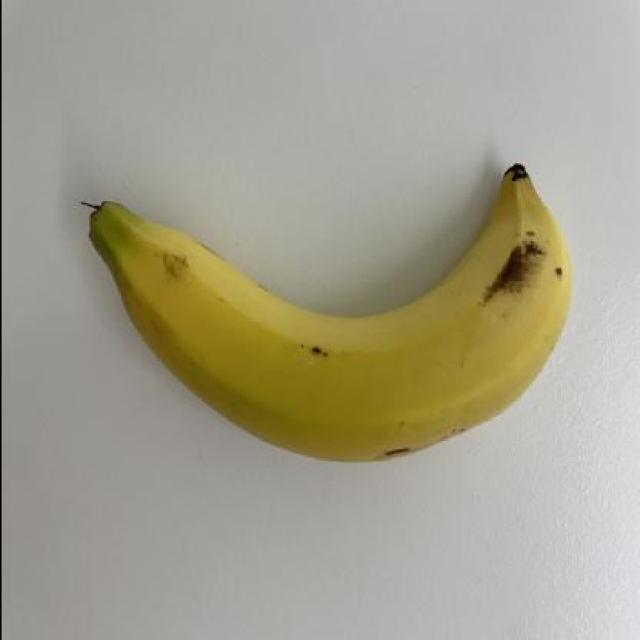Banana: (75, 148, 580, 468)
